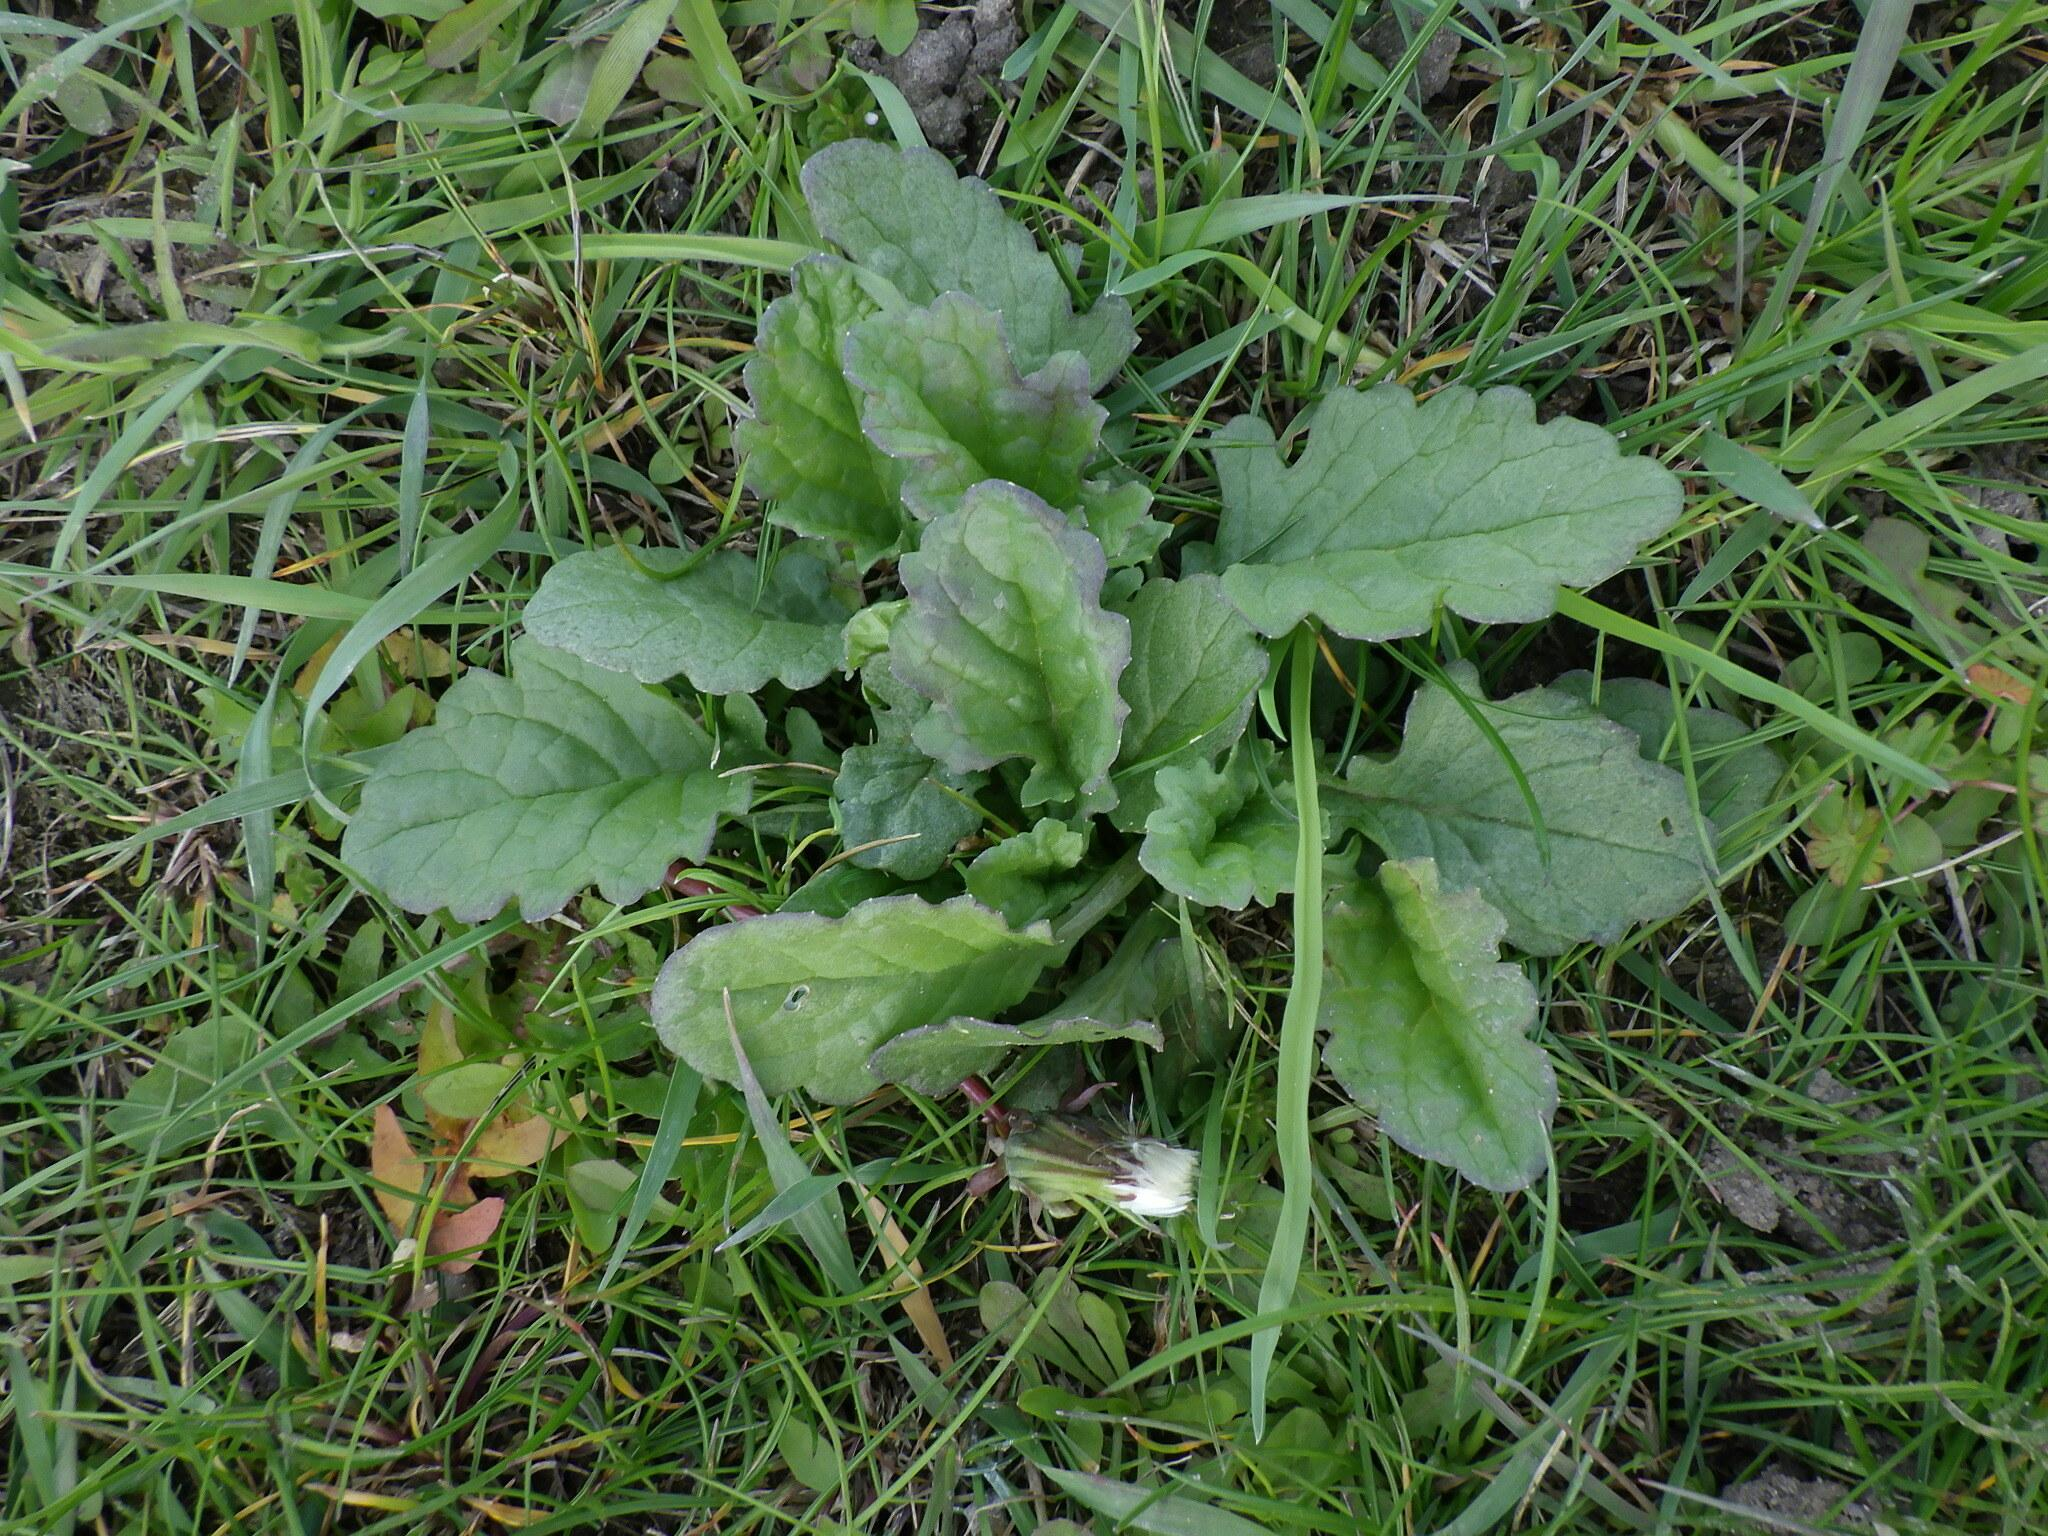Jacobaea vulgaris: (331, 90, 1825, 1210)
